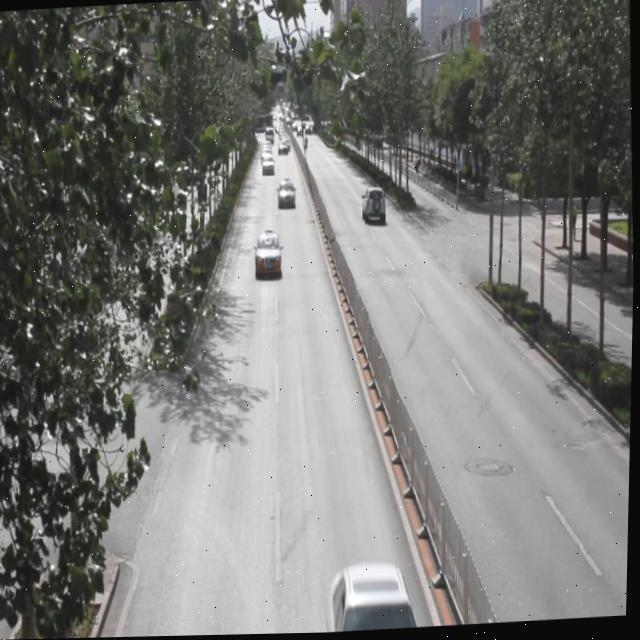car: (327, 562, 420, 634), (255, 231, 283, 273), (360, 187, 384, 223), (277, 179, 296, 209)
